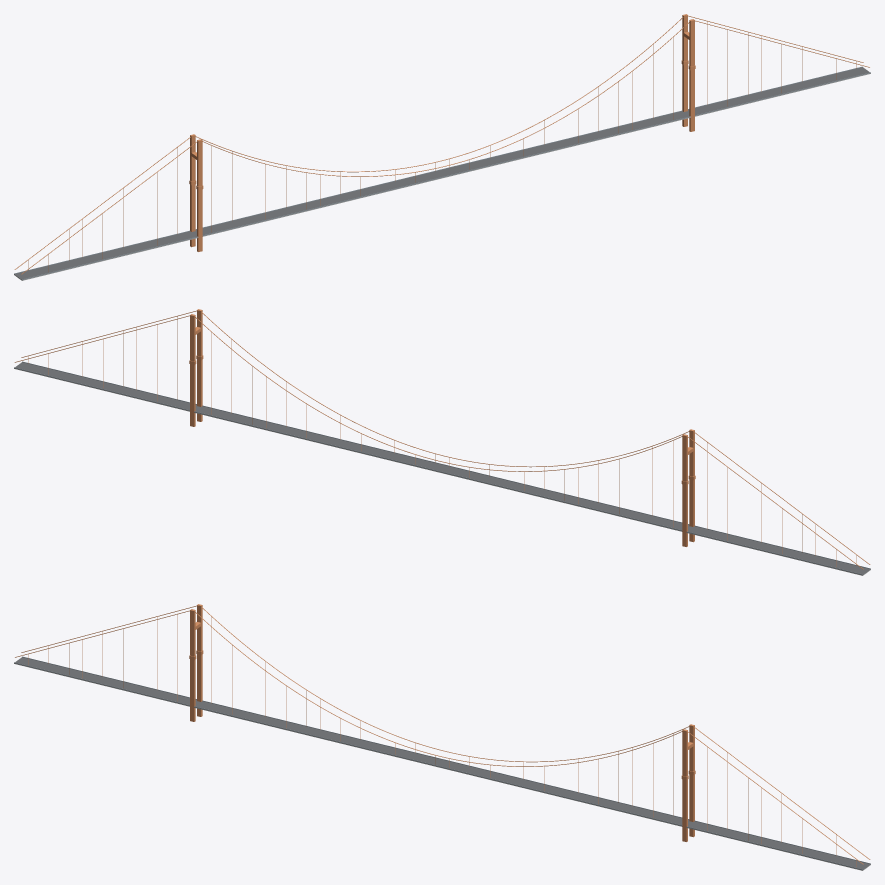
The model's file is source.glb.
The picture shows the model from 3 angles, top to bottom: view 1: azimuth 30°, elevation 25°; view 2: azimuth 150°, elevation 25°; view 3: azimuth 330°, elevation 25°; orthographic projection.
Visible parts, largest first — view 1: worldgen; view 2: worldgen; view 3: worldgen.
Part boxes in pixels (left/top/right/bottom): worldgen: left=14, top=14, right=870, bottom=280; worldgen: left=14, top=309, right=870, bottom=575; worldgen: left=14, top=604, right=870, bottom=870.
Bounding box in the file's own units: 2001 × 251 × 35.72.
